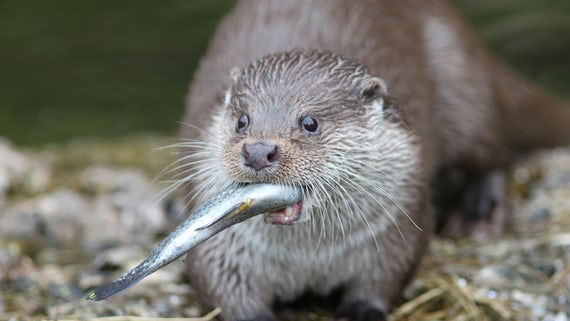otter: (149, 25, 468, 321)
